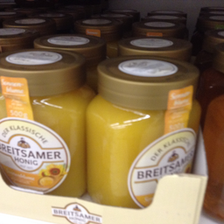honey: (86, 52, 204, 211), (1, 48, 93, 203)
